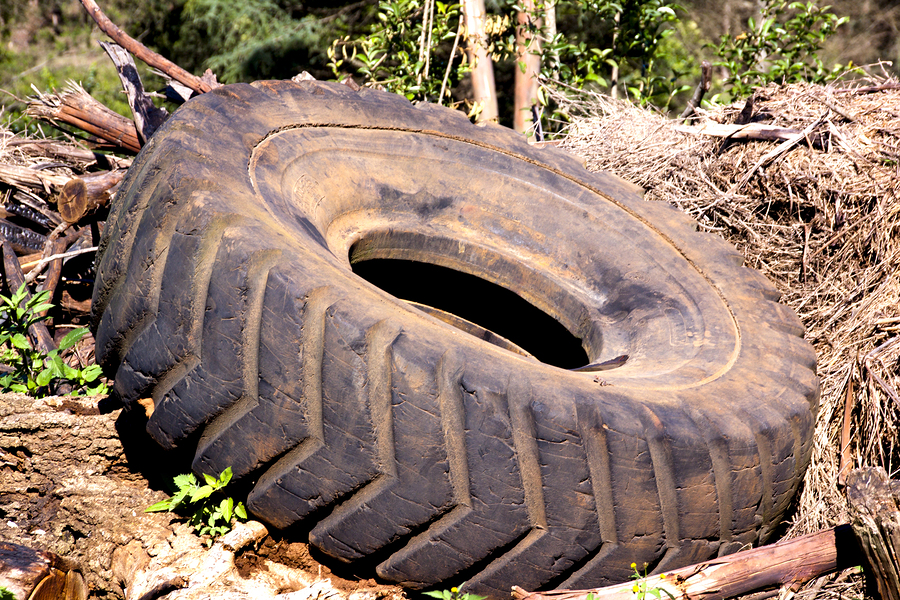tire: (93, 81, 819, 595)
